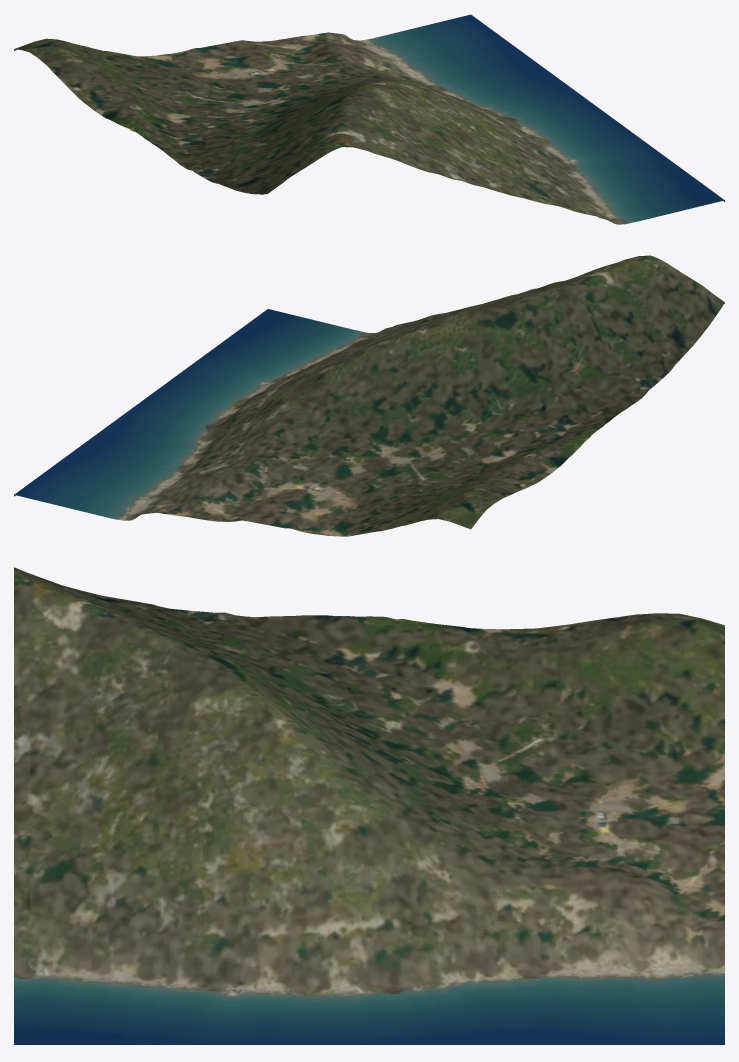
3 views of the same model, one above another, from view 1: azimuth 30°, elevation 25°; view 2: azimuth 150°, elevation 25°; view 3: azimuth 270°, elevation 25° (orthographic). The views are drawn at different scales.
Bounding box in the file's own units: 250 × 77.67 × 241.
Materials: 1 (1 with a texture image).
